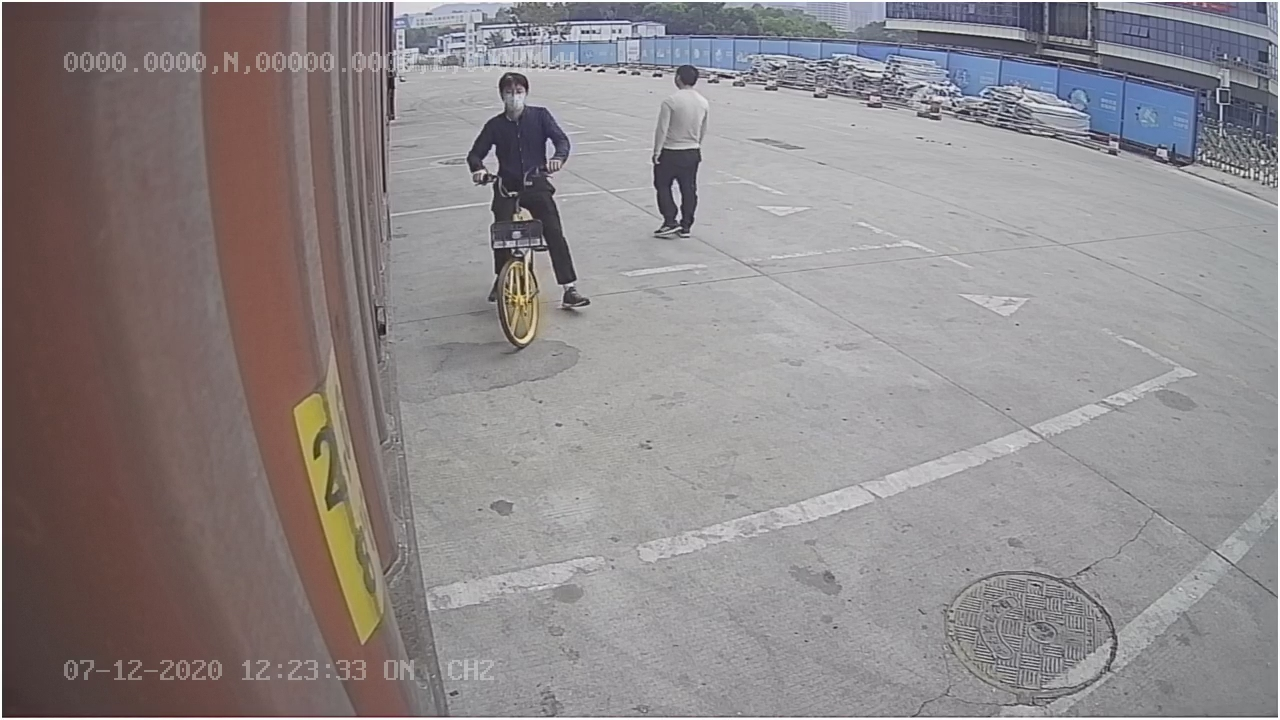person: (640, 62, 716, 247)
